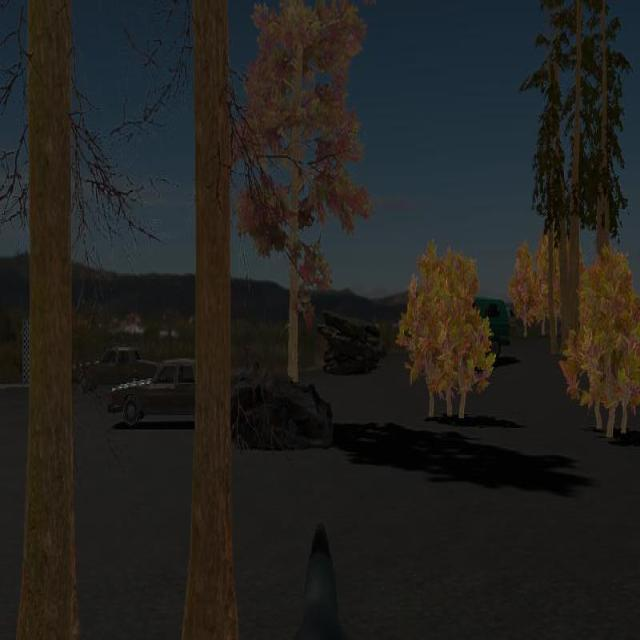car: (107, 356, 228, 427)
